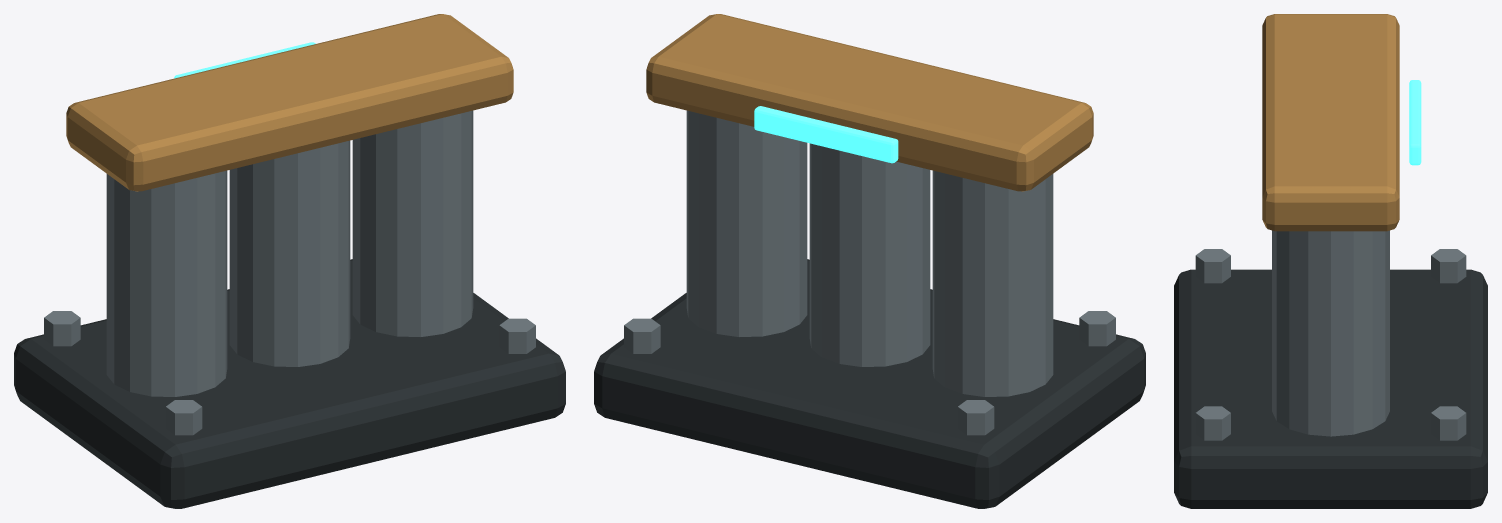
File: internal_power_core.glb
3 views of the same model, side by side, from view 1: azimuth 30°, elevation 25°; view 2: azimuth 150°, elevation 25°; view 3: azimuth 270°, elevation 25° (orthographic). The views are drawn at different scales.
Parts seen in each view (by area): view 1: Cube, Cube.001, Cylinder.004, Cylinder.006, Cylinder.005, Cylinder, Cylinder.002, Cylinder.001; view 2: Cube, Cube.001, Cylinder.004, Cylinder.006, Cylinder.005, Cube.002, Cylinder.001, Cylinder.003, Cylinder; view 3: Cube, Cube.001, Cylinder.006, Cylinder.002, Cylinder.003, Cylinder, Cylinder.001, Cube.002.
Part boxes in pixels (box(x1,y1,x2,y2)): Cube: box(14, 259, 565, 508); Cube.001: box(66, 14, 513, 191); Cylinder.004: box(106, 170, 227, 396); Cylinder.006: box(352, 110, 473, 336); Cylinder.005: box(229, 140, 350, 366); Cylinder: box(165, 400, 202, 435); Cylinder.002: box(499, 318, 535, 353); Cylinder.001: box(44, 311, 80, 346); Cube: box(594, 259, 1145, 508); Cube.001: box(646, 14, 1093, 191); Cylinder.004: box(932, 170, 1053, 396); Cylinder.006: box(686, 110, 807, 336); Cylinder.005: box(809, 143, 930, 366); Cube.002: box(754, 106, 898, 163); Cylinder.001: box(957, 400, 994, 435); Cylinder.003: box(624, 318, 660, 353); Cylinder: box(1079, 311, 1115, 346); Cube: box(1174, 269, 1487, 508); Cube.001: box(1262, 14, 1399, 231); Cylinder.006: box(1272, 230, 1389, 436); Cylinder.002: box(1195, 406, 1230, 440); Cylinder.003: box(1431, 406, 1466, 440); Cylinder: box(1195, 249, 1230, 283); Cylinder.001: box(1431, 249, 1466, 283); Cube.002: box(1409, 80, 1421, 165).
Size of the model in its own units: 0.23 by 0.18 by 0.16.
